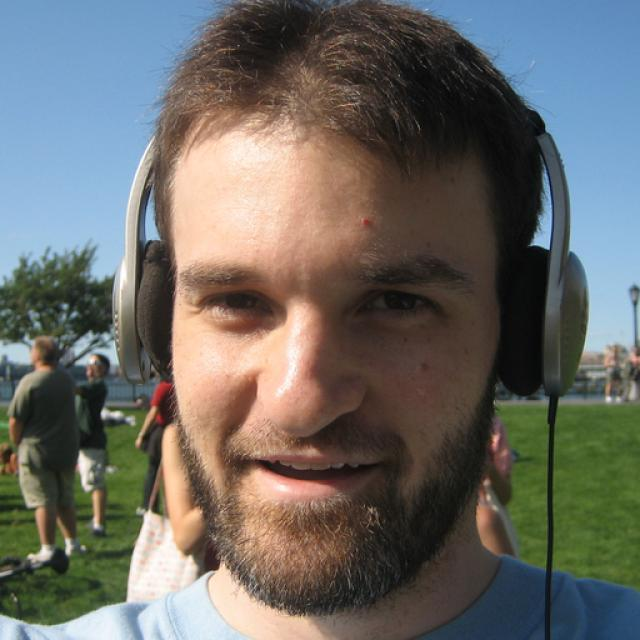content: (171, 89, 509, 614)
